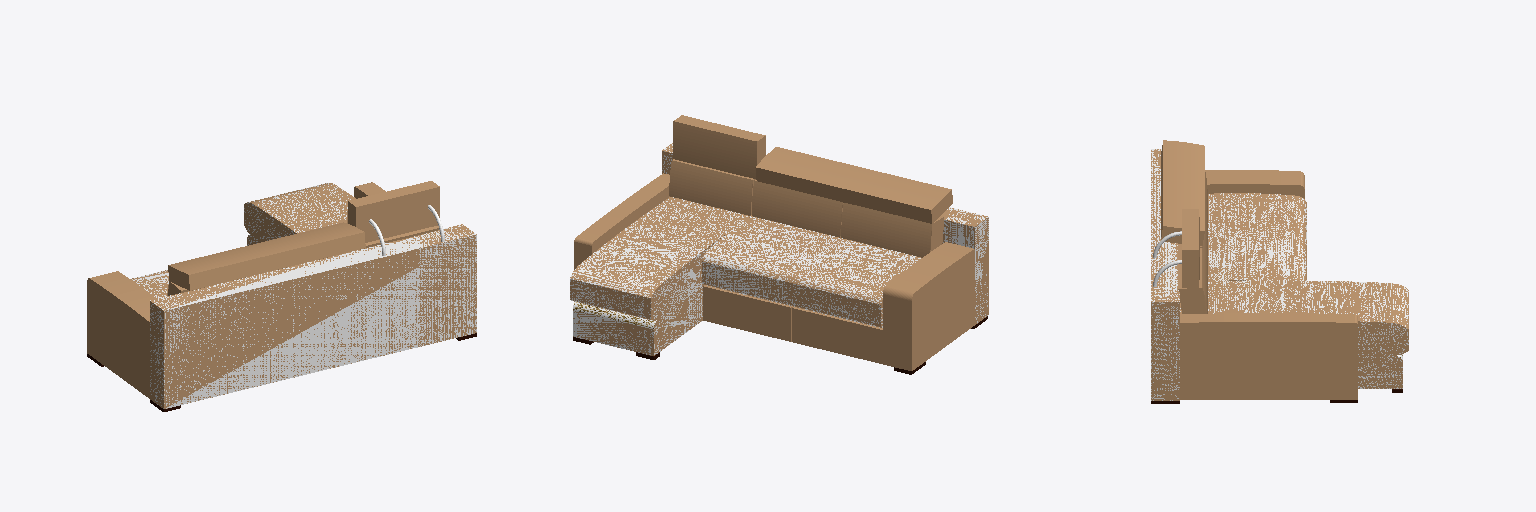
The picture shows the model from 3 angles: view 1: azimuth 30°, elevation 25°; view 2: azimuth 150°, elevation 25°; view 3: azimuth 270°, elevation 25°; orthographic projection.
Visible parts, largest first — view 1: mesh37_mesh37-geometry, mesh31_mesh31-geometry, mesh9_mesh9-geometry, mesh1_mesh1-geometry, mesh5_mesh5-geometry; view 2: mesh37_mesh37-geometry, mesh31_mesh31-geometry, mesh9_mesh9-geometry, mesh1_mesh1-geometry, mesh3_mesh3-geometry, mesh5_mesh5-geometry, mesh27_mesh27-geometry, mesh33_mesh33-geometry, mesh25_mesh25-geometry, mesh29_mesh29-geometry, mesh7_mesh7-geometry; view 3: mesh37_mesh37-geometry, mesh7_mesh7-geometry, mesh31_mesh31-geometry, mesh1_mesh1-geometry, mesh5_mesh5-geometry, mesh9_mesh9-geometry, mesh29_mesh29-geometry.
Boxes of the visible parts, x1,y1,x2,y2 form: mesh37_mesh37-geometry: [131, 183, 476, 408]; mesh31_mesh31-geometry: [87, 271, 156, 398]; mesh9_mesh9-geometry: [347, 181, 439, 242]; mesh1_mesh1-geometry: [168, 244, 278, 290]; mesh5_mesh5-geometry: [257, 222, 365, 268]; mesh37_mesh37-geometry: [570, 143, 988, 355]; mesh31_mesh31-geometry: [883, 242, 974, 370]; mesh9_mesh9-geometry: [673, 115, 765, 178]; mesh1_mesh1-geometry: [843, 168, 952, 223]; mesh3_mesh3-geometry: [841, 203, 943, 257]; mesh5_mesh5-geometry: [755, 147, 864, 202]; mesh27_mesh27-geometry: [792, 307, 882, 363]; mesh33_mesh33-geometry: [752, 180, 843, 237]; mesh25_mesh25-geometry: [703, 285, 792, 341]; mesh29_mesh29-geometry: [669, 159, 755, 215]; mesh7_mesh7-geometry: [574, 173, 669, 269]; mesh37_mesh37-geometry: [1151, 149, 1408, 400]; mesh7_mesh7-geometry: [1180, 313, 1357, 399]; mesh31_mesh31-geometry: [1205, 170, 1304, 198]; mesh1_mesh1-geometry: [1161, 140, 1204, 193]; mesh5_mesh5-geometry: [1161, 184, 1204, 245]; mesh9_mesh9-geometry: [1182, 209, 1199, 287]; mesh29_mesh29-geometry: [1178, 248, 1207, 313].
Size of the model in its own units: 0.7668 by 0.3377 by 0.5459.
7 materials, 1 textured.